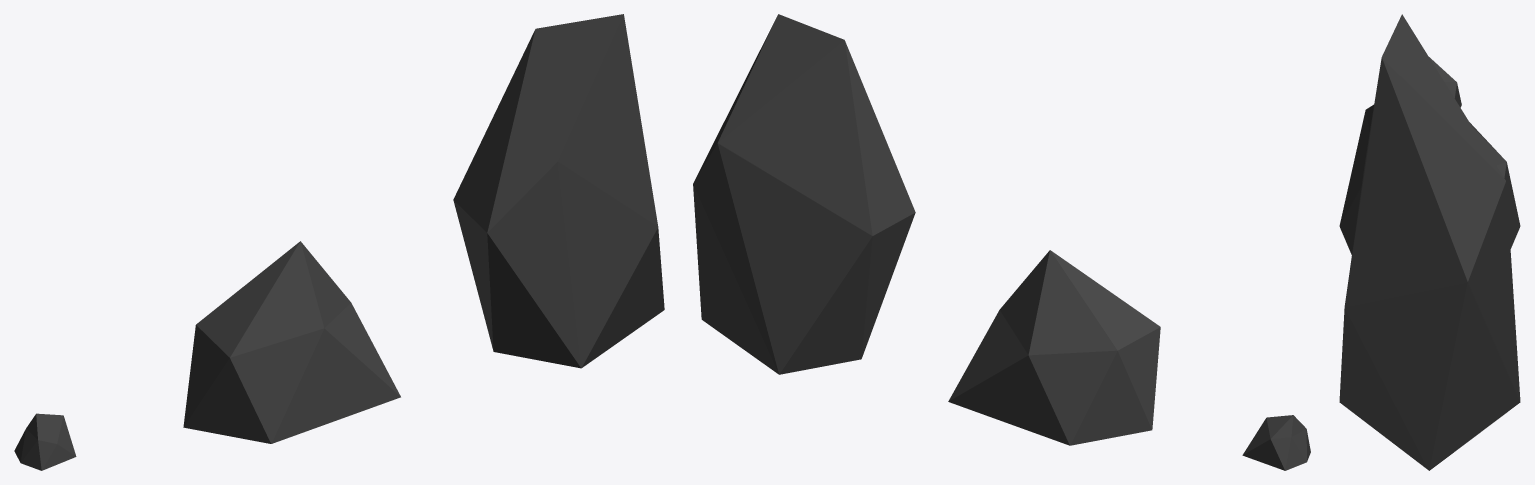
File: Rocks.fbx
3 renders of one model, left to right at view 1: azimuth 30°, elevation 25°; view 2: azimuth 150°, elevation 25°; view 3: azimuth 270°, elevation 25°, orthographic. The views are drawn at different scales.
Parts seen in each view (by area): view 1: Icosphere.001, Icosphere, Icosphere.002; view 2: Icosphere.001, Icosphere, Icosphere.002; view 3: Icosphere.001, Icosphere, Icosphere.002.
Boxes of the visible parts, x1=… form: Icosphere.001: x1=453, y1=14, x2=664, y2=368; Icosphere: x1=183, y1=241, x2=400, y2=443; Icosphere.002: x1=14, y1=413, x2=76, y2=470; Icosphere.001: x1=693, y1=14, x2=915, y2=374; Icosphere: x1=948, y1=250, x2=1160, y2=445; Icosphere.002: x1=1242, y1=415, x2=1310, y2=470; Icosphere.001: x1=1339, y1=14, x2=1520, y2=470; Icosphere: x1=1339, y1=104, x2=1520, y2=254; Icosphere.002: x1=1429, y1=57, x2=1461, y2=107.
Bounding box in the file's own units: 814 × 394 × 170.
1 material, 1 textured.
